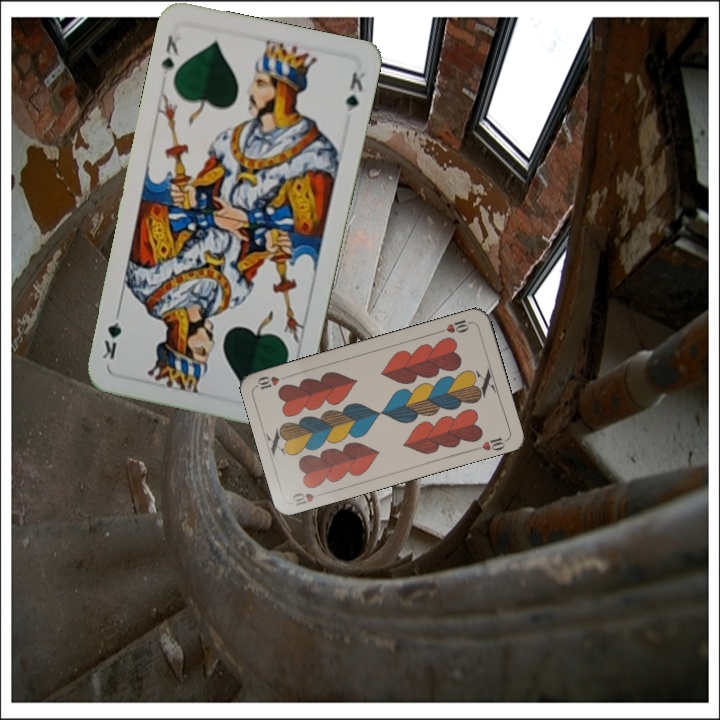GK: (157, 31, 182, 77)
H10: (288, 488, 328, 509), (435, 315, 475, 335)
